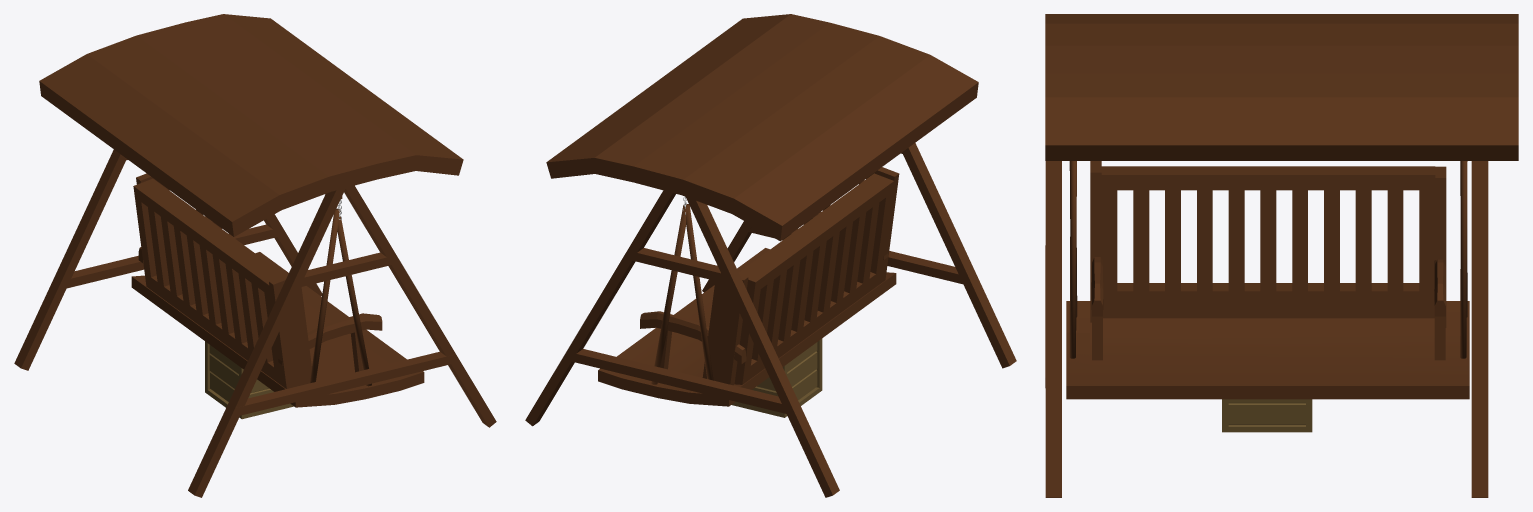
The model's file is BoxAndChair.fbx.
3 views of the same model, side by side, from view 1: azimuth 30°, elevation 25°; view 2: azimuth 150°, elevation 25°; view 3: azimuth 270°, elevation 25° (orthographic). The views are drawn at different scales.
Visible parts, largest first — view 1: Cube, Box; view 2: Cube, Box; view 3: Cube, Box.
Part boxes in pixels (x1=…): Cube: x1=14, y1=14, x2=496, y2=497; Box: x1=205, y1=341, x2=293, y2=419; Cube: x1=525, y1=14, x2=1016, y2=497; Box: x1=731, y1=338, x2=822, y2=417; Cube: x1=1045, y1=14, x2=1518, y2=497; Box: x1=1222, y1=399, x2=1312, y2=432.
Bounding box in the file's own units: 1.81 × 1.67 × 2.
